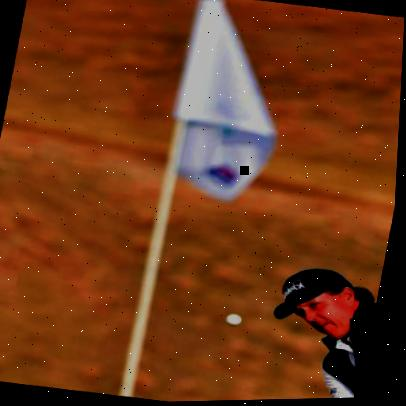ClubHead: (228, 312, 250, 330)
